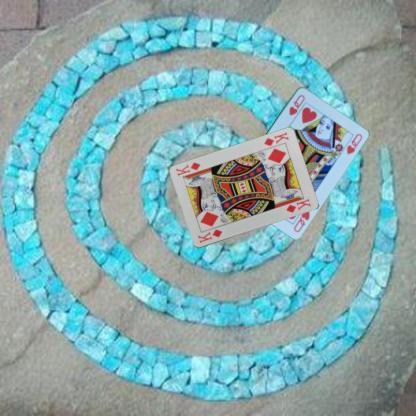Kd: (195, 226, 224, 245), (261, 130, 290, 147)
Qh: (286, 92, 306, 117), (291, 208, 311, 233)
